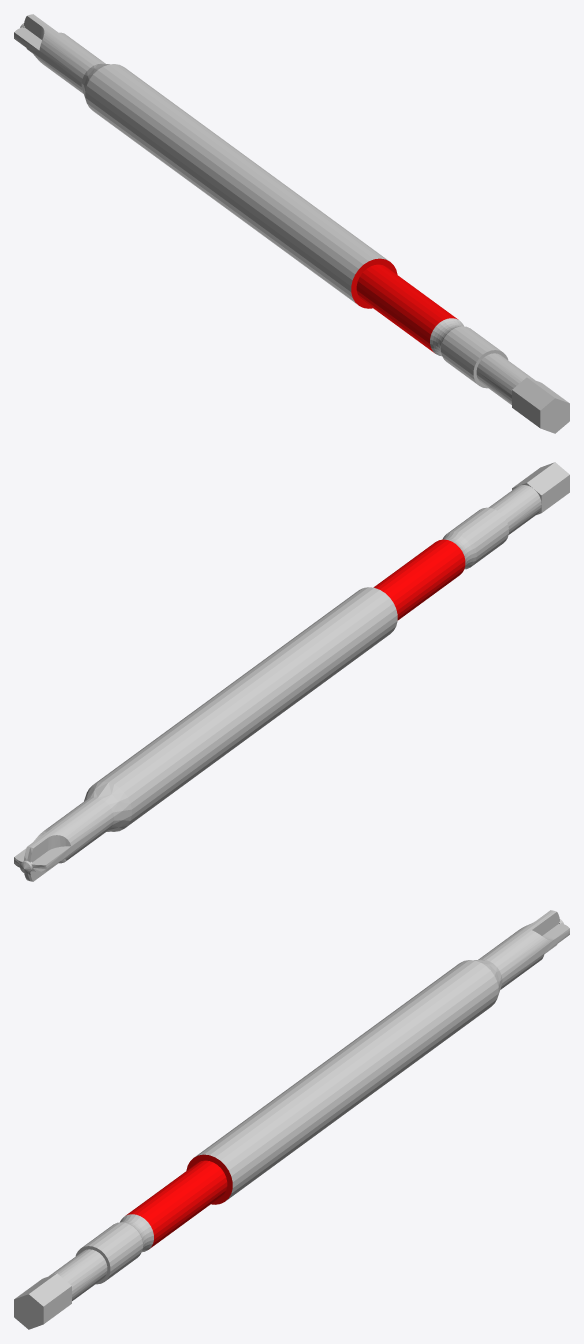
File: HASTEDECHAVENEWPROMM1_5REV02__2__STEP_8_27_28.obj
3 renders of one model, top to bottom at view 1: azimuth 30°, elevation 25°; view 2: azimuth 150°, elevation 25°; view 3: azimuth 330°, elevation 25°, orthographic.
Visible parts, largest first — view 1: Object1; view 2: Object1; view 3: Object1.
Boxes of the visible parts, x1,y1,x2,y2 form: Object1: (14, 14, 569, 433); Object1: (14, 462, 569, 881); Object1: (14, 910, 569, 1329).
Bounding box in the file's own units: 3.77 × 3.8 × 74.75.
